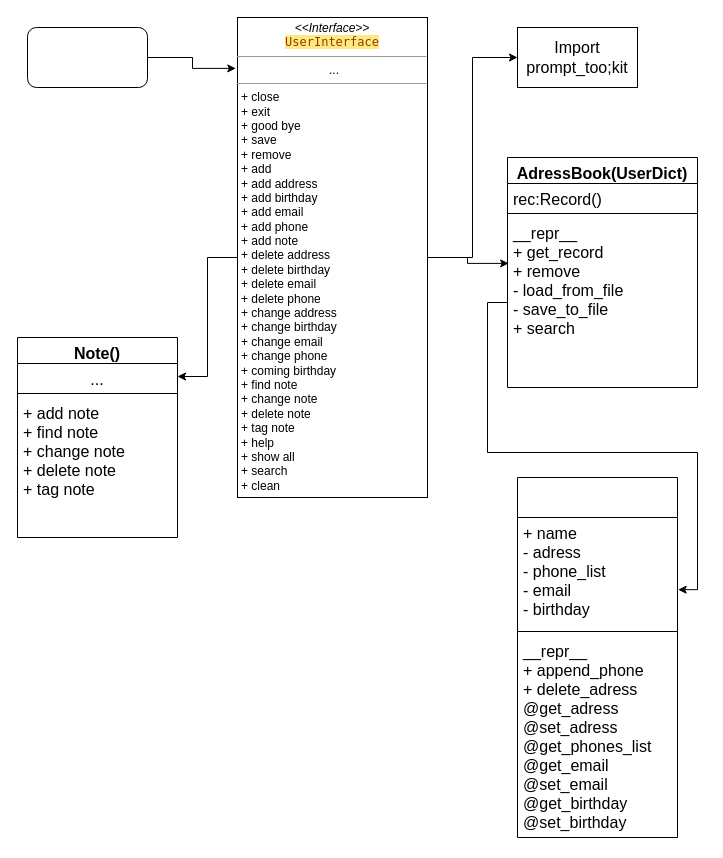
This 723x858 diagram has some shape labels left out. The box of each missing label's shape, as (x1, y1, x2, y2) in pixels:
Main: (26, 26, 148, 88)
Record(): (516, 476, 678, 838)
